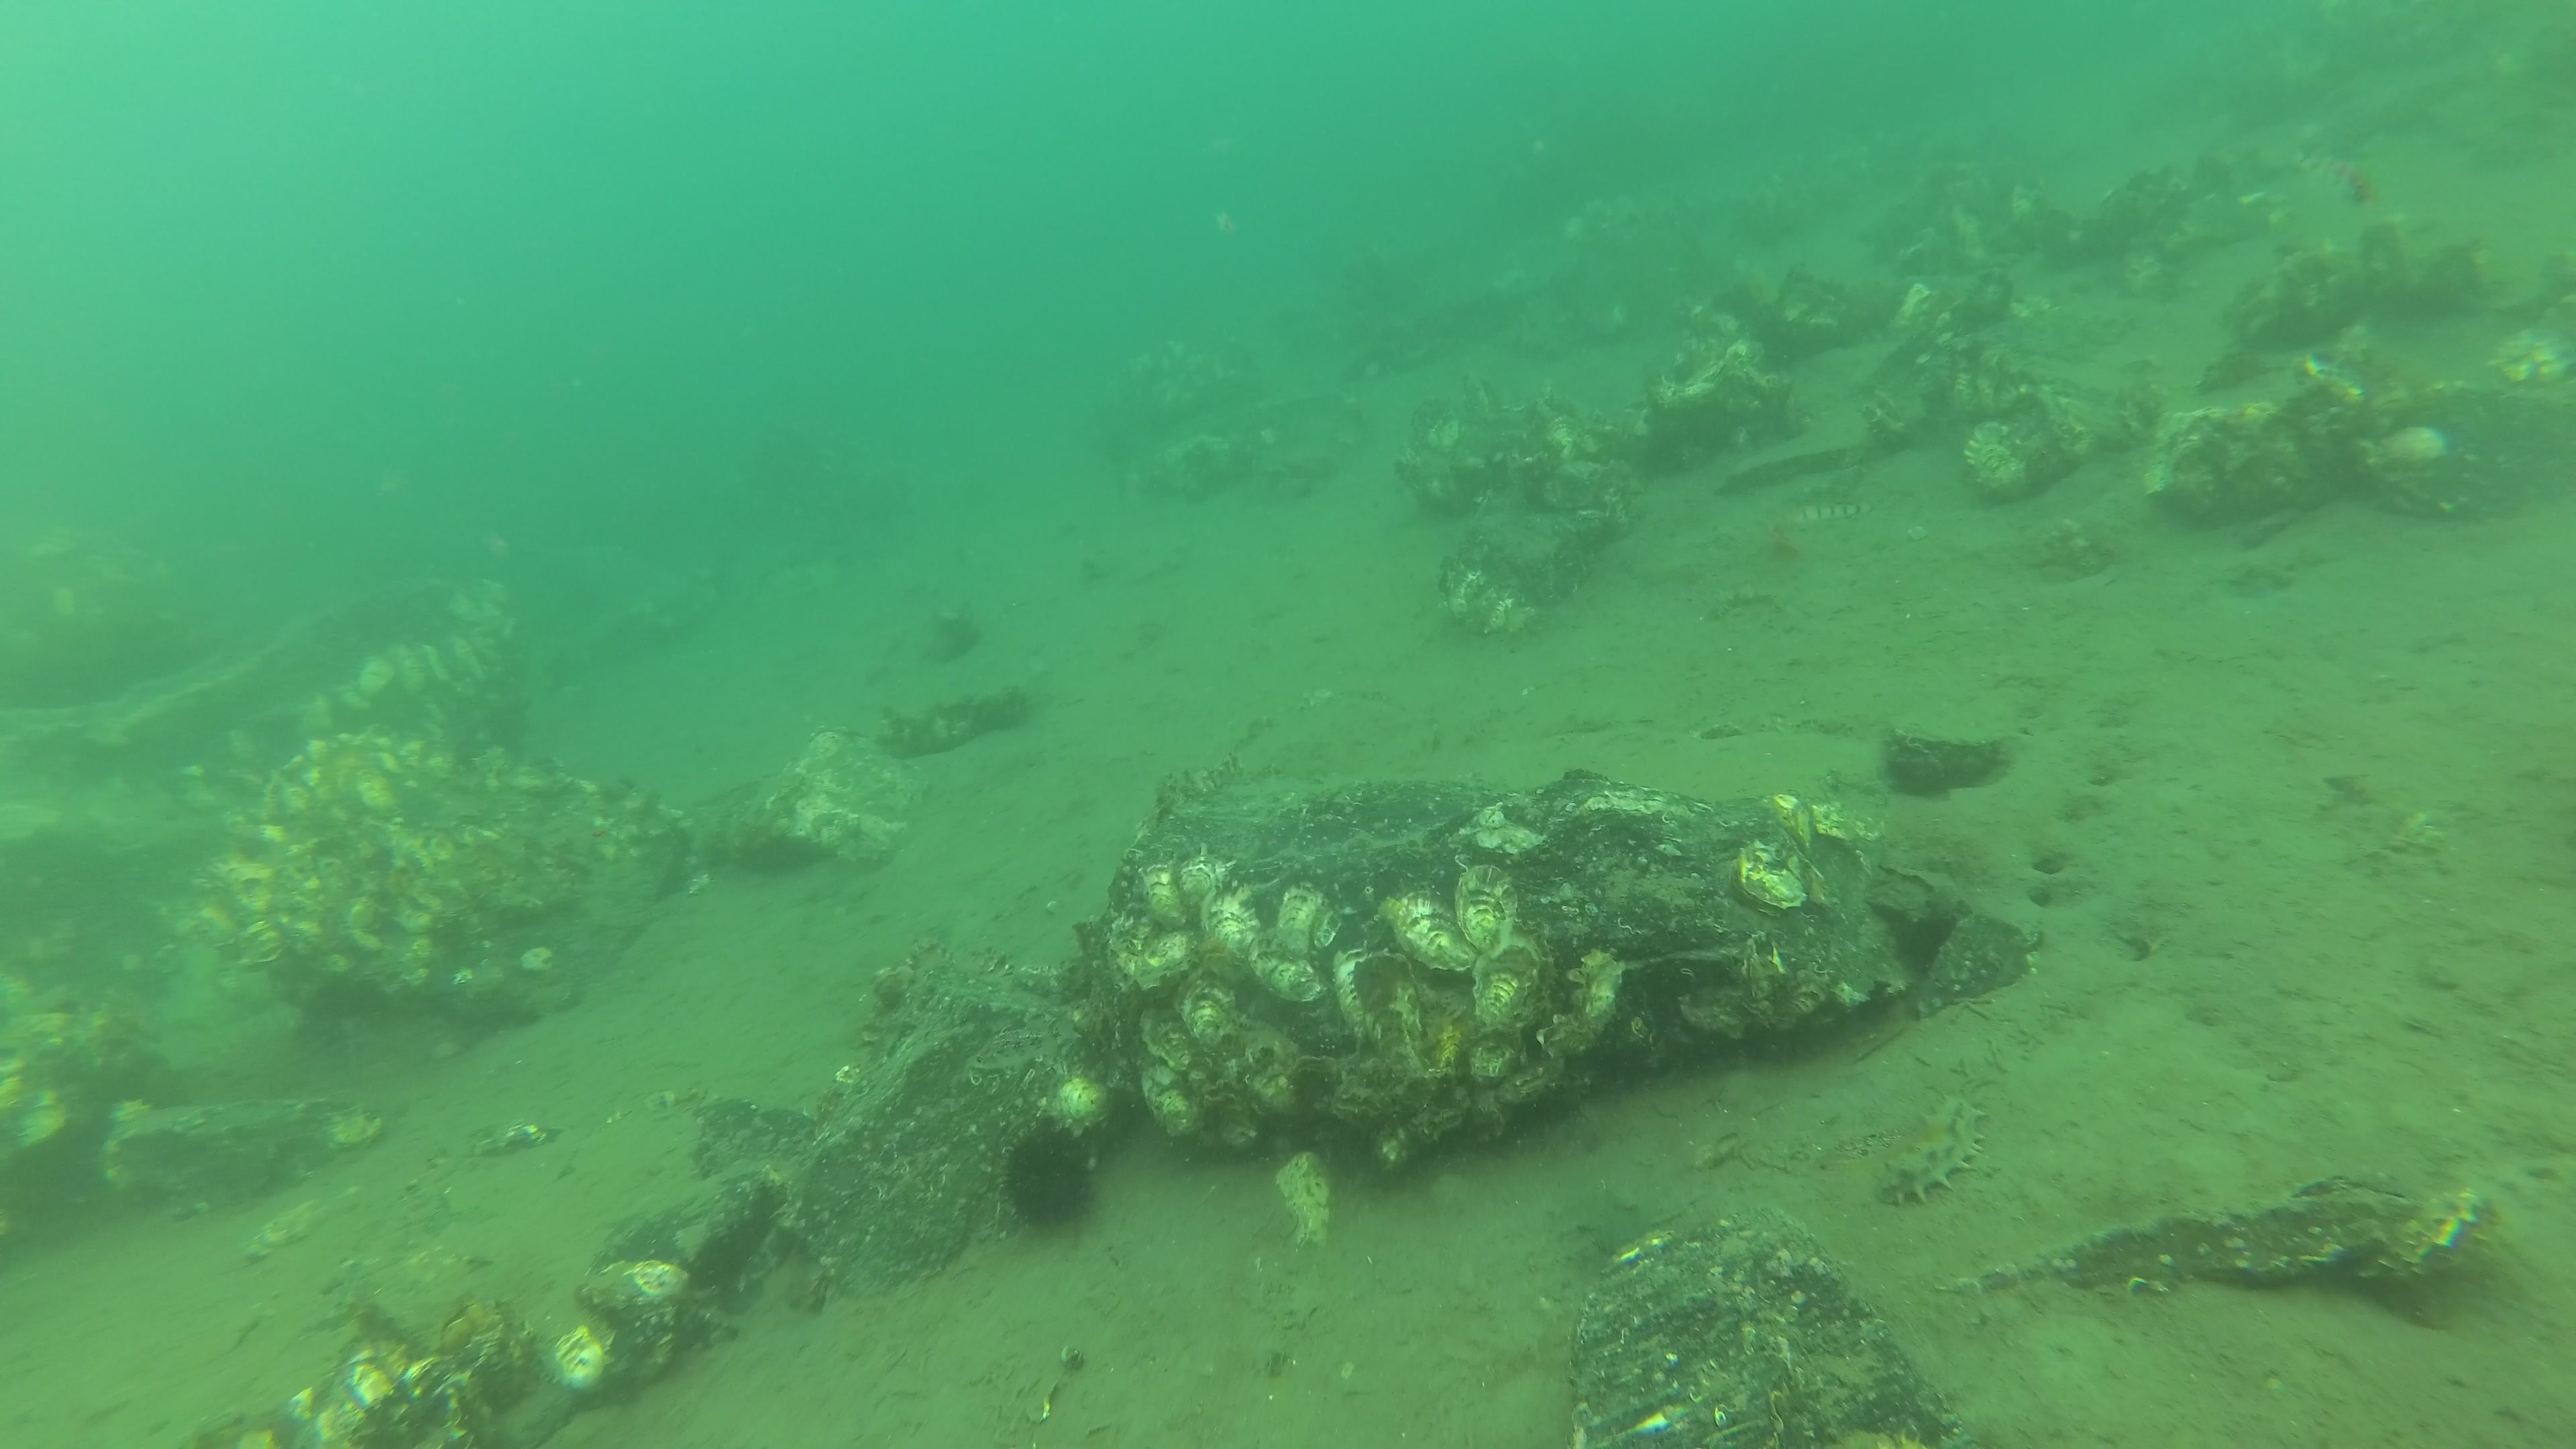echinus: (991, 1122, 1104, 1244)
